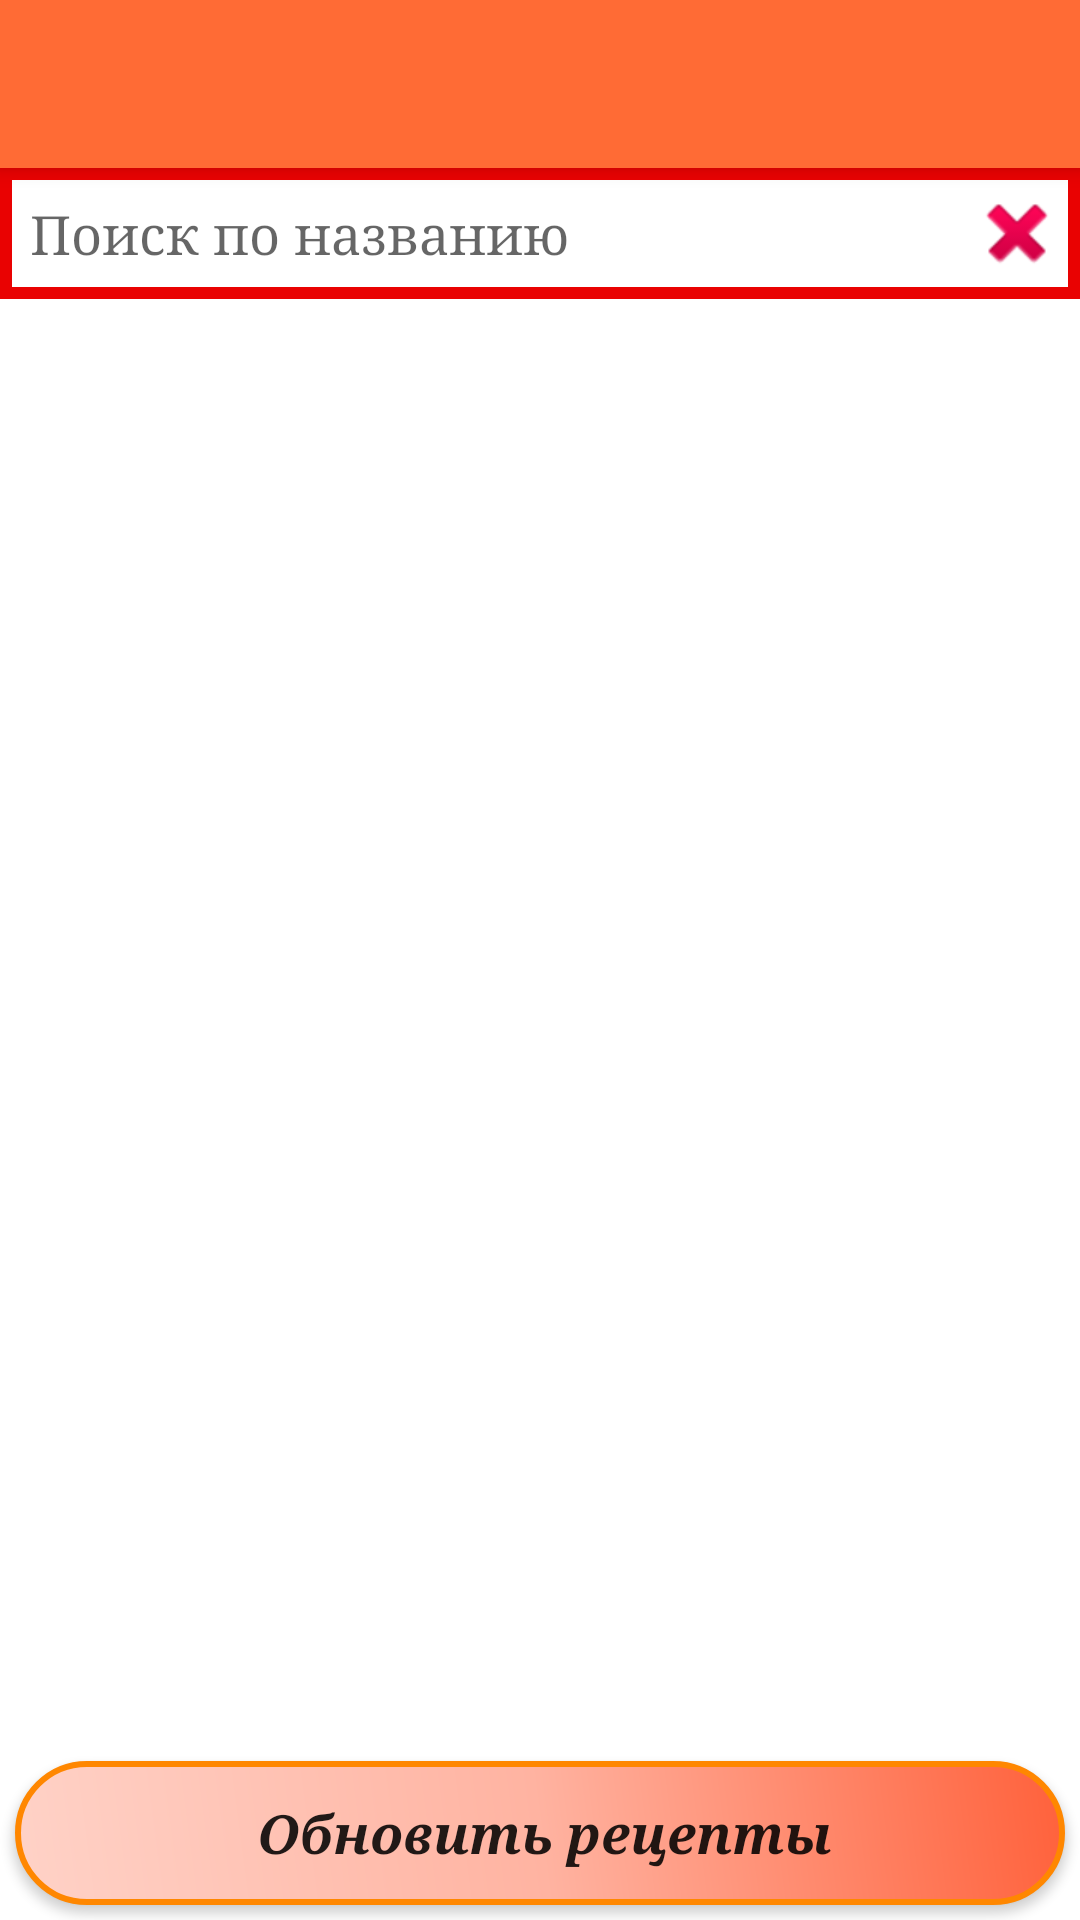

Icons on this 1080 × 1920 Android screen, each with its box as (x1, y1, x2, y2):
delete: (986, 204, 1048, 263)
